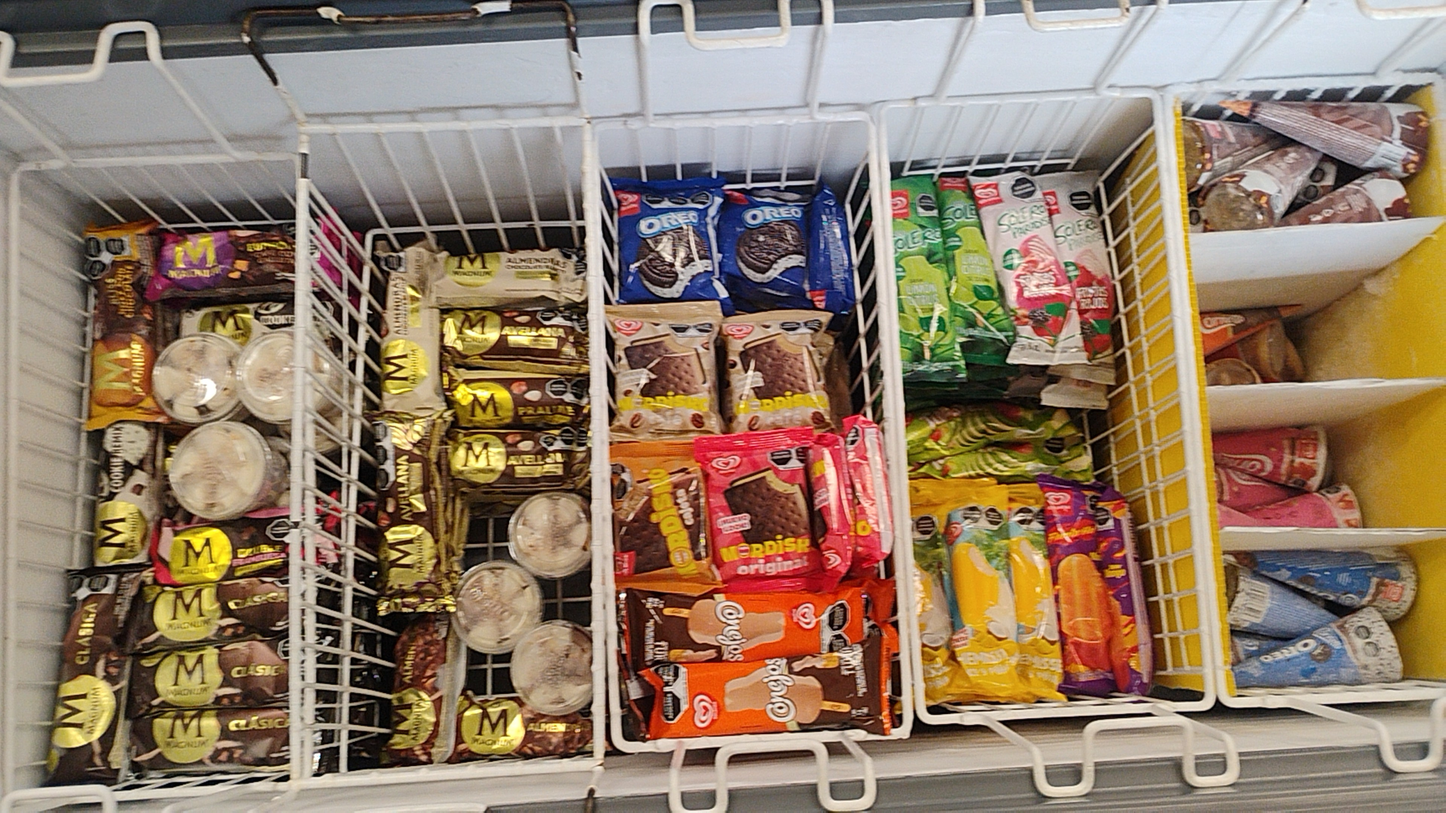Magnum clasica: (63, 579, 123, 777), (136, 578, 297, 646), (125, 708, 305, 768), (135, 652, 304, 704)
Oreo Mordizco: (619, 177, 732, 303), (732, 191, 817, 305), (817, 187, 862, 315)
